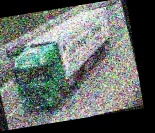truck: (1, 6, 127, 116)
